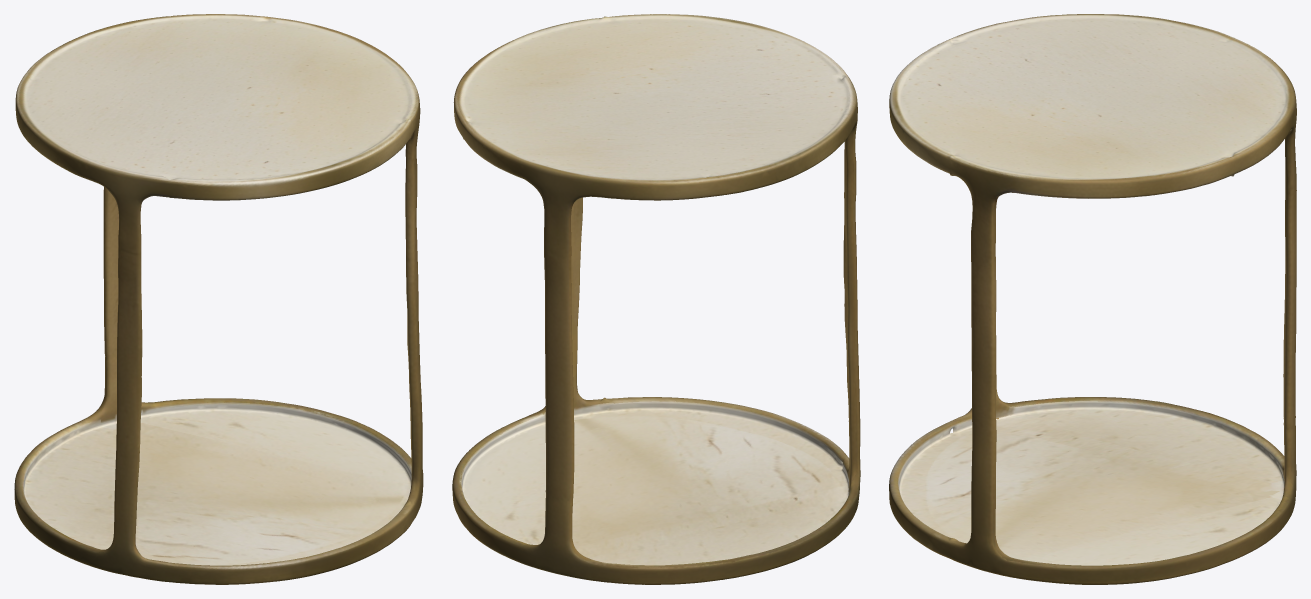
Rendered from product-bohemian-clench-brass-side-table-09.glb.
3 renders of one model, left to right at view 1: azimuth 30°, elevation 25°; view 2: azimuth 150°, elevation 25°; view 3: azimuth 270°, elevation 25°, orthographic.
Visible parts, largest first — view 1: geometry_0; view 2: geometry_0; view 3: geometry_0.
Part boxes in pixels (<box>): geometry_0: <box>14,14,423,584</box>; geometry_0: <box>452,14,860,584</box>; geometry_0: <box>889,14,1296,584</box>.
Size of the model in its own units: 1.81 by 1.97 by 1.81.
1 material, 1 textured.
